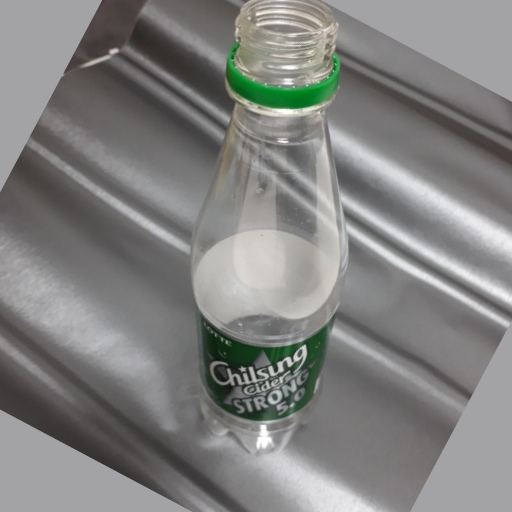Plastic_0: (188, 1, 352, 466)
